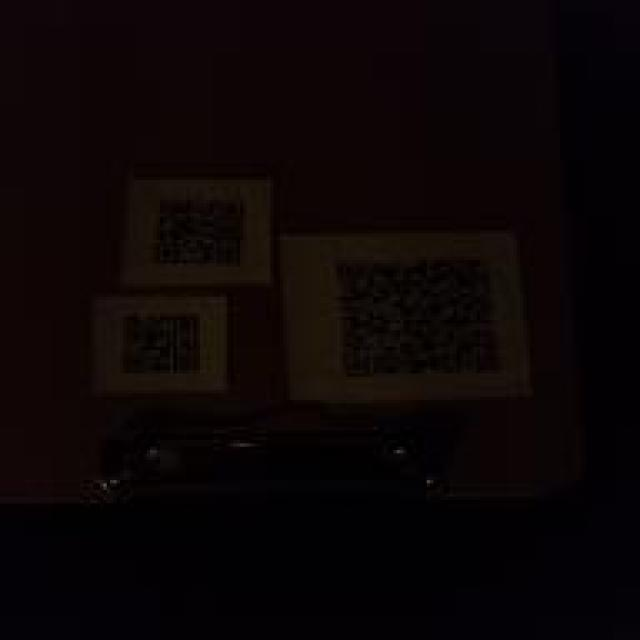QR_CODE: (322, 248, 513, 390), (137, 185, 263, 273), (107, 302, 220, 383)
